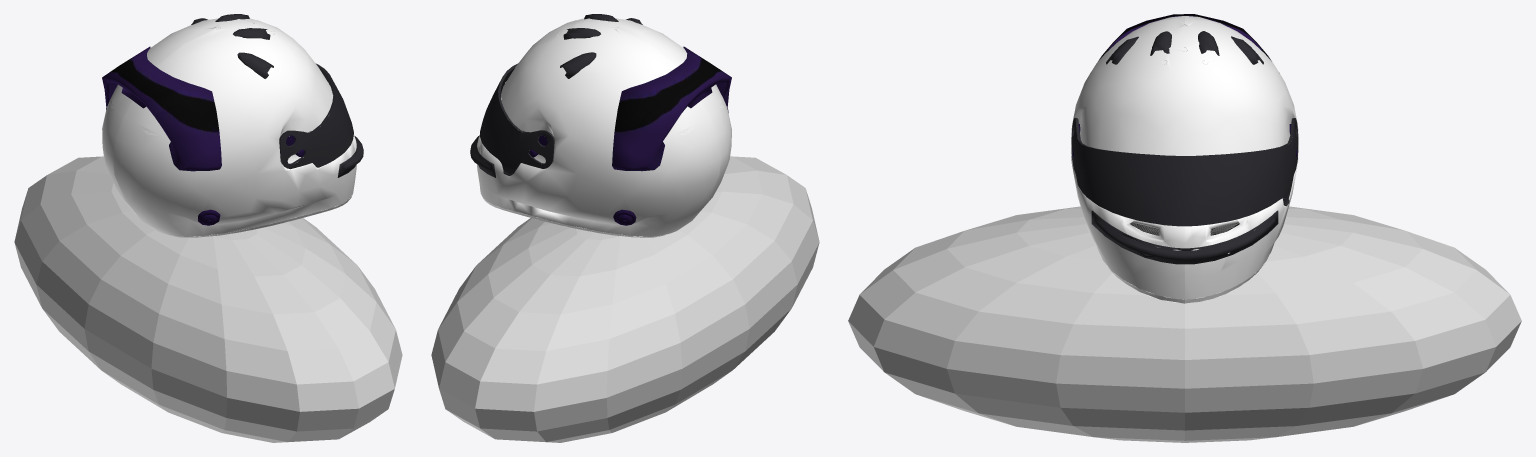
File: helmet.glb
The picture shows the model from 3 angles, left to right: view 1: azimuth 30°, elevation 25°; view 2: azimuth 150°, elevation 25°; view 3: azimuth 270°, elevation 25°; orthographic projection. The views are drawn at different scales.
Visible parts, largest first — view 1: shoulders, helmet; view 2: shoulders, helmet; view 3: shoulders, helmet.
Boxes of the visible parts, x1,y1,x2,y2 form: shoulders: [14, 156, 402, 442]; helmet: [102, 14, 363, 237]; shoulders: [431, 156, 819, 442]; helmet: [470, 14, 731, 237]; shoulders: [848, 206, 1521, 442]; helmet: [1071, 14, 1298, 303].
Bounding box in the file's own units: 0.4332 × 0.5552 × 0.84.
4 materials, 1 textured.
